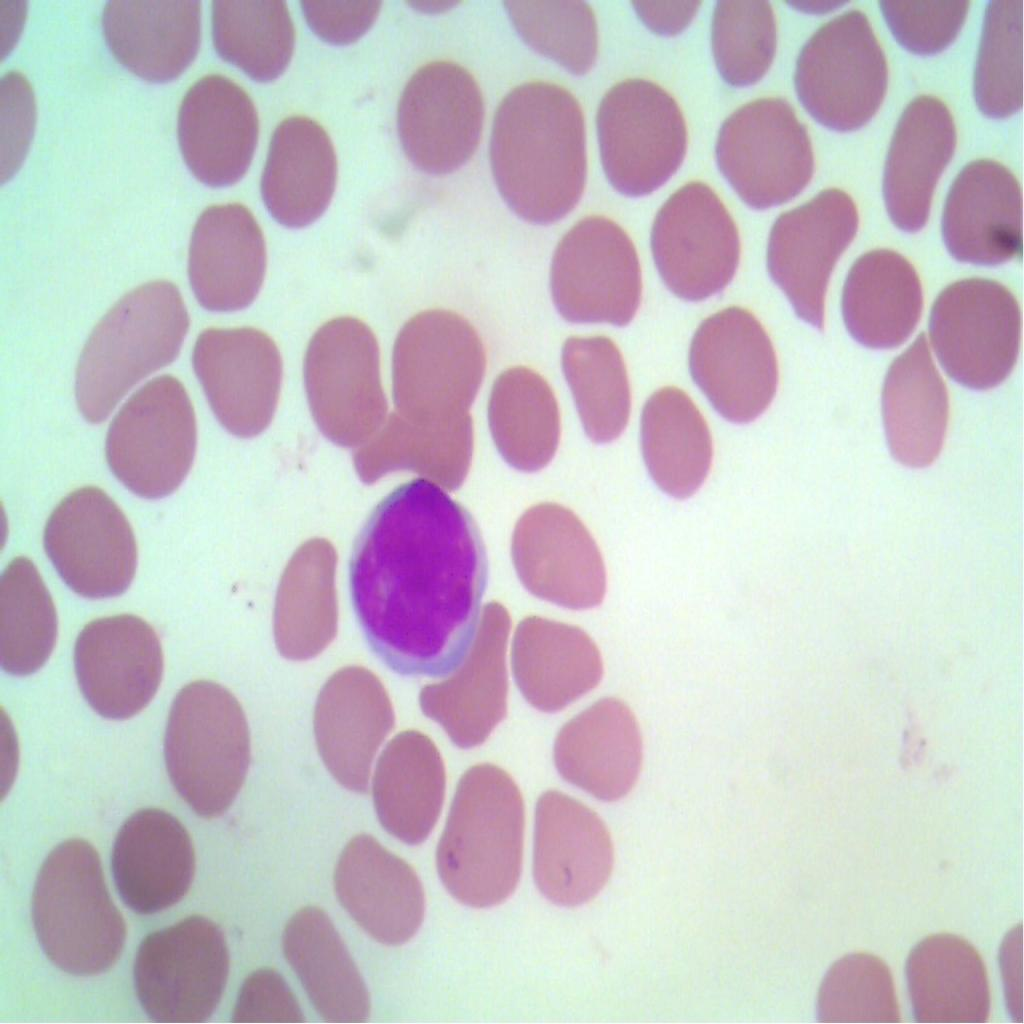Eritrosit: (70, 274, 188, 424), (481, 74, 593, 224), (435, 752, 529, 922), (763, 181, 863, 337), (151, 668, 253, 820), (326, 821, 429, 957), (418, 607, 514, 748), (511, 497, 618, 621), (694, 290, 786, 434), (30, 837, 124, 977), (102, 368, 198, 503), (191, 318, 291, 447), (713, 88, 816, 210), (131, 900, 233, 1023), (789, 9, 891, 132), (35, 481, 142, 598), (368, 721, 458, 859), (593, 72, 691, 198), (318, 660, 408, 797), (278, 900, 378, 1023), (528, 782, 622, 912), (650, 171, 741, 304), (296, 312, 389, 442), (66, 602, 160, 730), (930, 260, 1024, 388), (388, 58, 488, 177), (868, 335, 954, 471), (258, 104, 343, 238), (630, 376, 716, 506), (484, 354, 570, 484), (258, 532, 344, 662), (393, 304, 483, 425), (550, 207, 642, 325), (938, 152, 1024, 274), (89, 0, 206, 89), (515, 607, 609, 715), (551, 692, 646, 798), (884, 92, 958, 228), (558, 325, 639, 448), (841, 242, 926, 355), (108, 802, 196, 911), (182, 201, 271, 307), (174, 77, 258, 188), (384, 398, 478, 495), (902, 920, 988, 1023), (201, 0, 301, 84), (0, 548, 59, 675), (708, 0, 782, 97)
Limfoblast: (344, 474, 491, 684)
